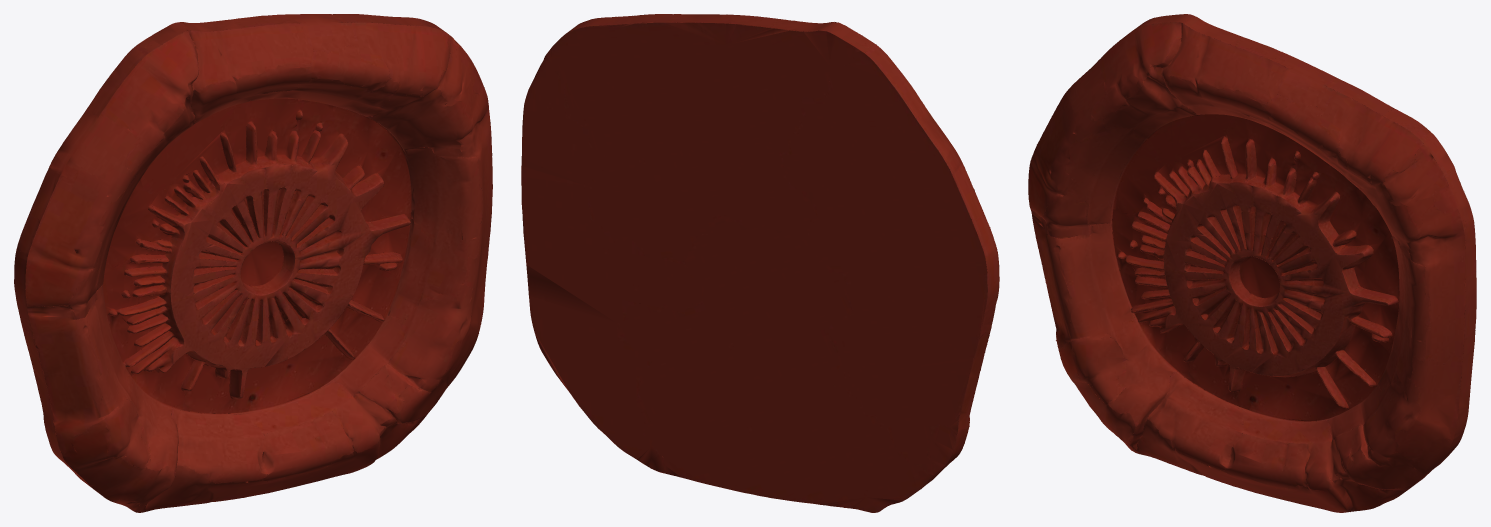
The model's file is wax-seal.glb.
The picture shows the model from 3 angles, left to right: view 1: azimuth 30°, elevation 25°; view 2: azimuth 150°, elevation 25°; view 3: azimuth 330°, elevation 25°; orthographic projection. The views are drawn at different scales.
Visible parts, largest first — view 1: Mesh_0; view 2: Mesh_0; view 3: Mesh_0.
Boxes of the visible parts, x1,y1,x2,y2 form: Mesh_0: (14,14,492,512); Mesh_0: (521,14,999,512); Mesh_0: (1028,14,1476,512).
Bounding box in the file's own units: 1.9 × 1.88 × 0.2137.
Materials: 1 (1 with a texture image).
